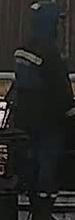vest: (13, 36, 75, 140)
